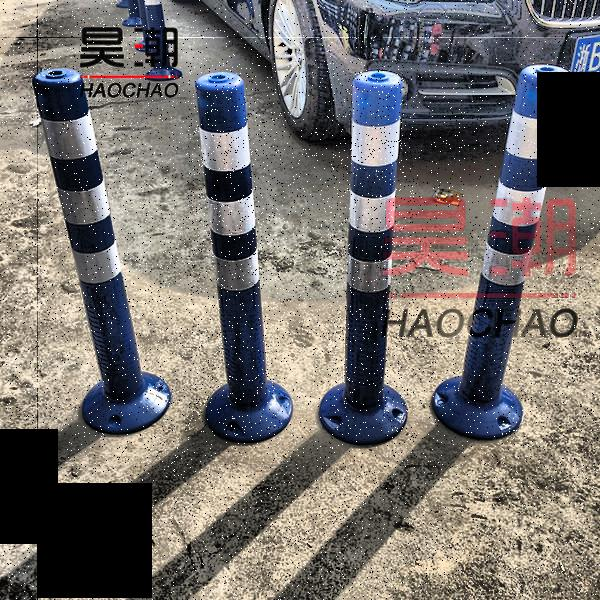bench: (188, 62, 284, 437), (328, 69, 415, 442)
